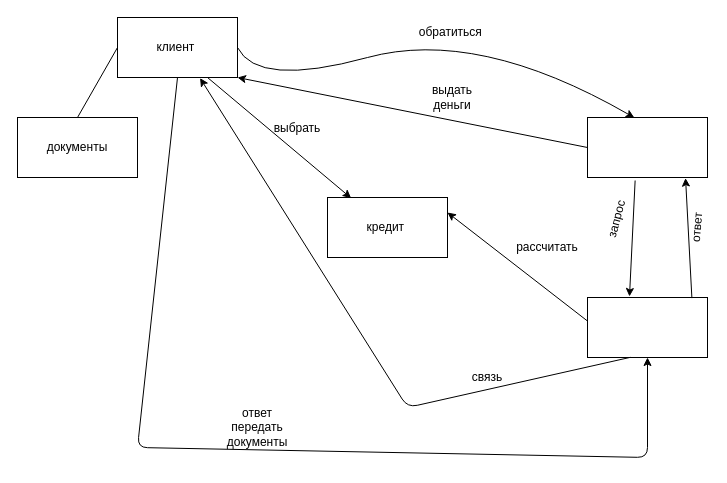
The diagram is 727 pixels wide and 483 high, and some of its shapes have lost their labels. Each missing label, with the centre of its shape:
"банк" goes at (647,147).
"сотрудник банка" goes at (647,327).
